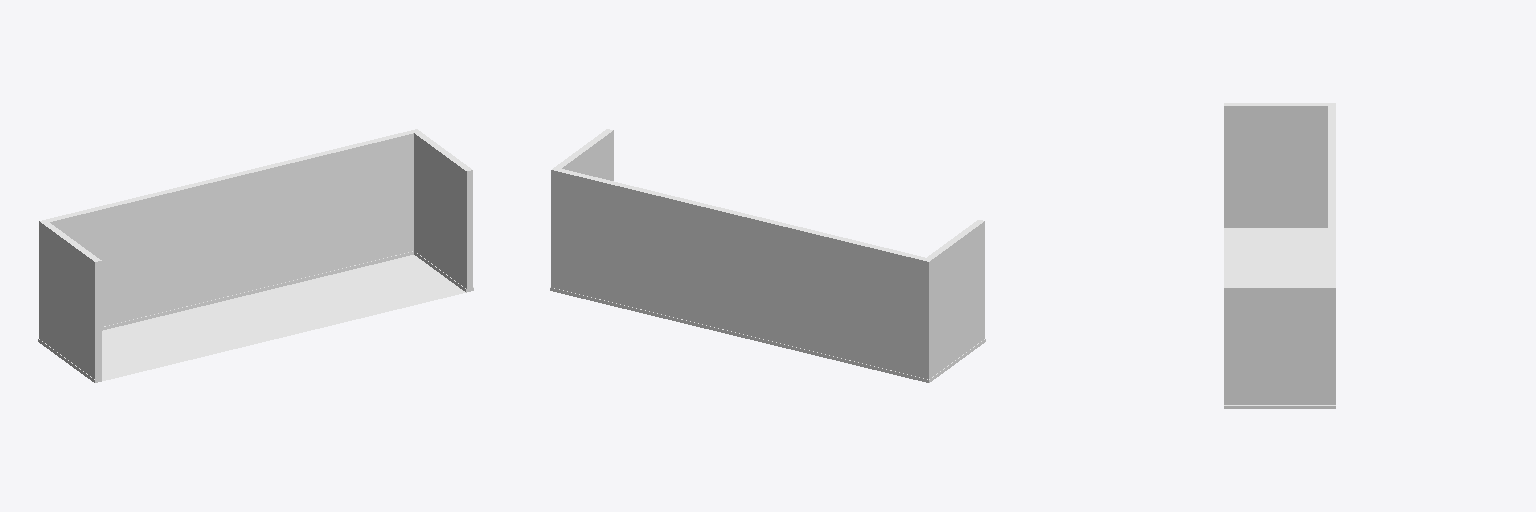
Rendered from piece02.obj.
The picture shows the model from 3 angles: view 1: azimuth 30°, elevation 25°; view 2: azimuth 150°, elevation 25°; view 3: azimuth 270°, elevation 25°; orthographic projection.
Visible parts, largest first — view 1: wall_3_15, room_1_1, wall_2_7, wall_4_23, wall_3_13, wall_3_16, wall_3_17; view 2: wall_3_14, wall_2_7, wall_3_12, wall_4_23, wall_3_16, wall_3_17; view 3: wall_4_22, wall_2_6, room_1_1, wall_3_16, wall_3_17.
Boxes of the visible parts, x1=… form: wall_3_15: x1=50, y1=133, x2=413, y2=326; room_1_1: x1=102, y1=255, x2=465, y2=380; wall_2_7: x1=39, y1=221, x2=97, y2=382; wall_4_23: x1=414, y1=133, x2=469, y2=291; wall_3_13: x1=102, y1=251, x2=413, y2=330; wall_3_16: x1=42, y1=129, x2=416, y2=221; wall_3_17: x1=45, y1=131, x2=414, y2=221; wall_3_14: x1=551, y1=170, x2=928, y2=379; wall_2_7: x1=929, y1=221, x2=984, y2=378; wall_3_12: x1=550, y1=288, x2=928, y2=382; wall_4_23: x1=562, y1=130, x2=613, y2=180; wall_3_16: x1=554, y1=169, x2=928, y2=261; wall_3_17: x1=557, y1=169, x2=926, y2=259; wall_4_22: x1=1224, y1=288, x2=1335, y2=404; wall_2_6: x1=1224, y1=106, x2=1327, y2=223; room_1_1: x1=1224, y1=228, x2=1327, y2=284; wall_3_16: x1=1332, y1=103, x2=1335, y2=287; wall_3_17: x1=1328, y1=105, x2=1331, y2=285.
Bounding box in the file's own units: 819 × 250 × 211.